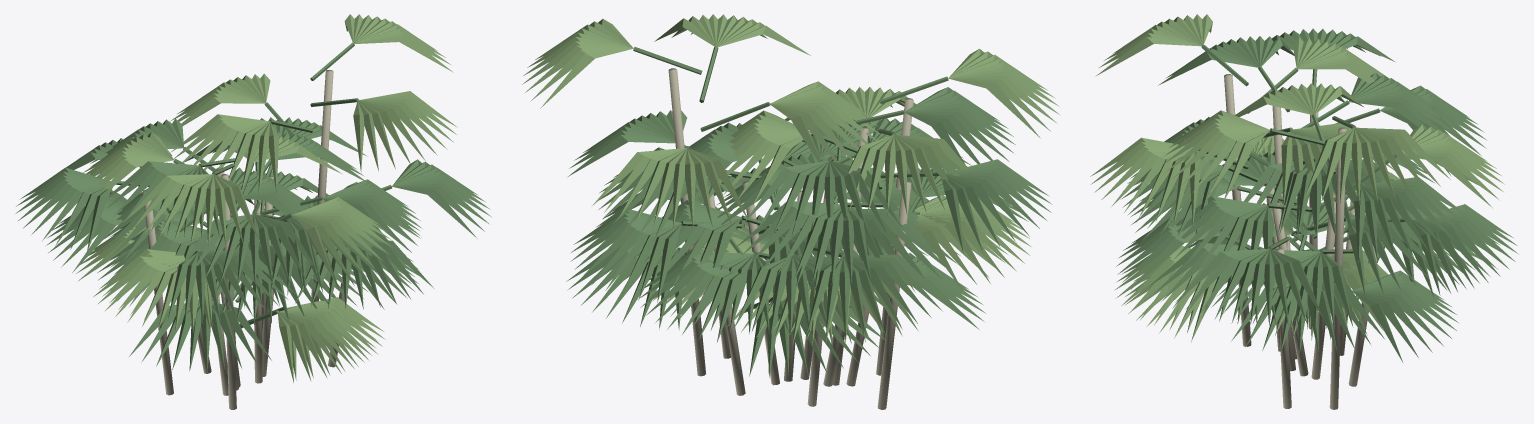
The model's file is grove-specimen-19.glb.
The picture shows the model from 3 angles, left to right: view 1: azimuth 30°, elevation 25°; view 2: azimuth 150°, elevation 25°; view 3: azimuth 270°, elevation 25°; orthographic projection. The views are drawn at different scales.
Visible parts, largest first — view 1: grove-specimen-19; view 2: grove-specimen-19; view 3: grove-specimen-19.
Boxes of the visible parts, left/top/right/bottom form: grove-specimen-19: left=15, top=14, right=491, bottom=409; grove-specimen-19: left=522, top=14, right=1059, bottom=409; grove-specimen-19: left=1090, top=14, right=1517, bottom=409.
Bounding box in the file's own units: 2.82 × 1.84 × 2.27.
